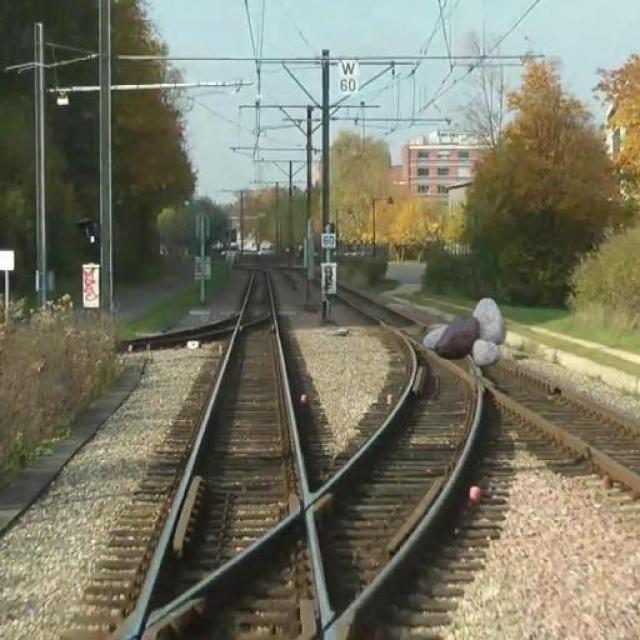Stone: (420, 291, 512, 366)
